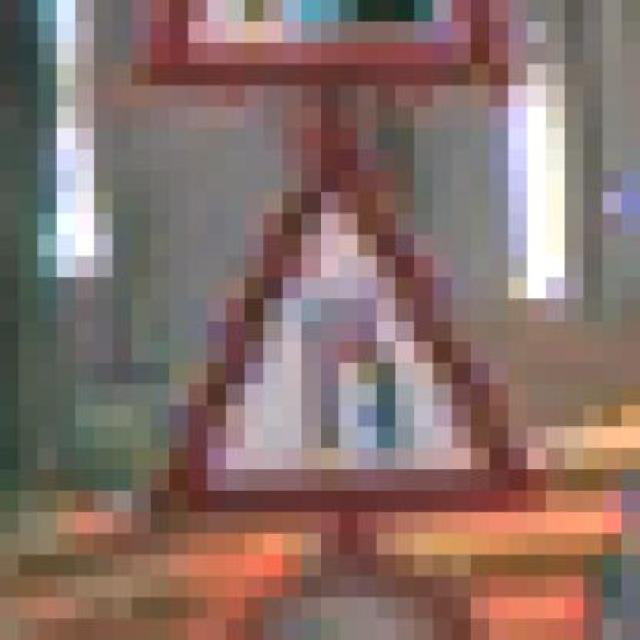-Road narrows on right: (132, 128, 566, 555)
